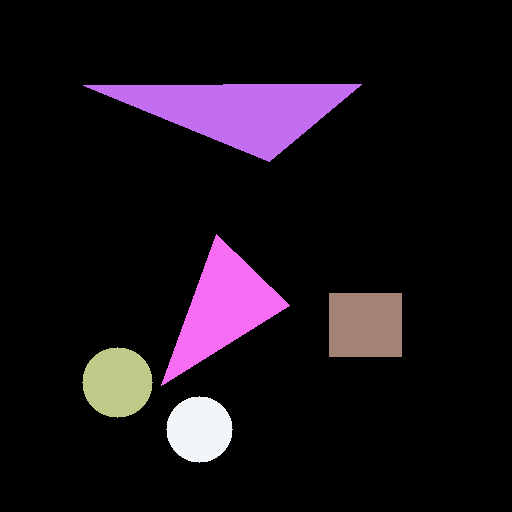circle: (82, 347, 152, 417), (166, 396, 232, 462)
rectangle: (329, 293, 401, 356)
triangle: (83, 84, 361, 161), (161, 234, 289, 385)
